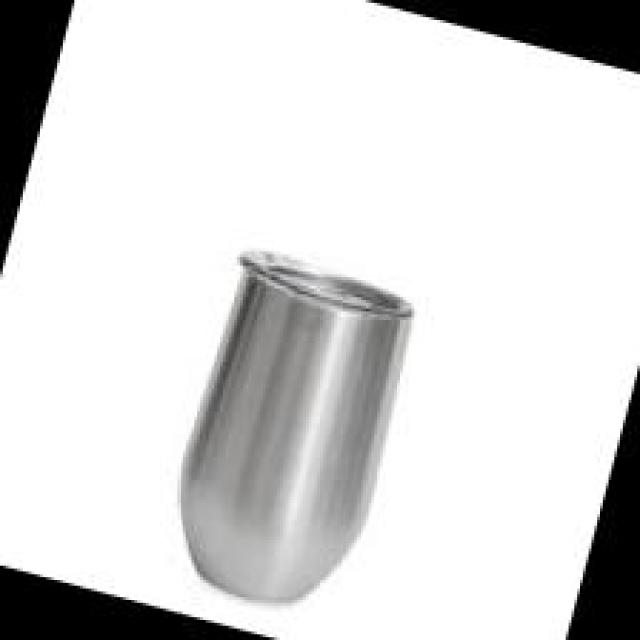bottle: (144, 240, 433, 629)
